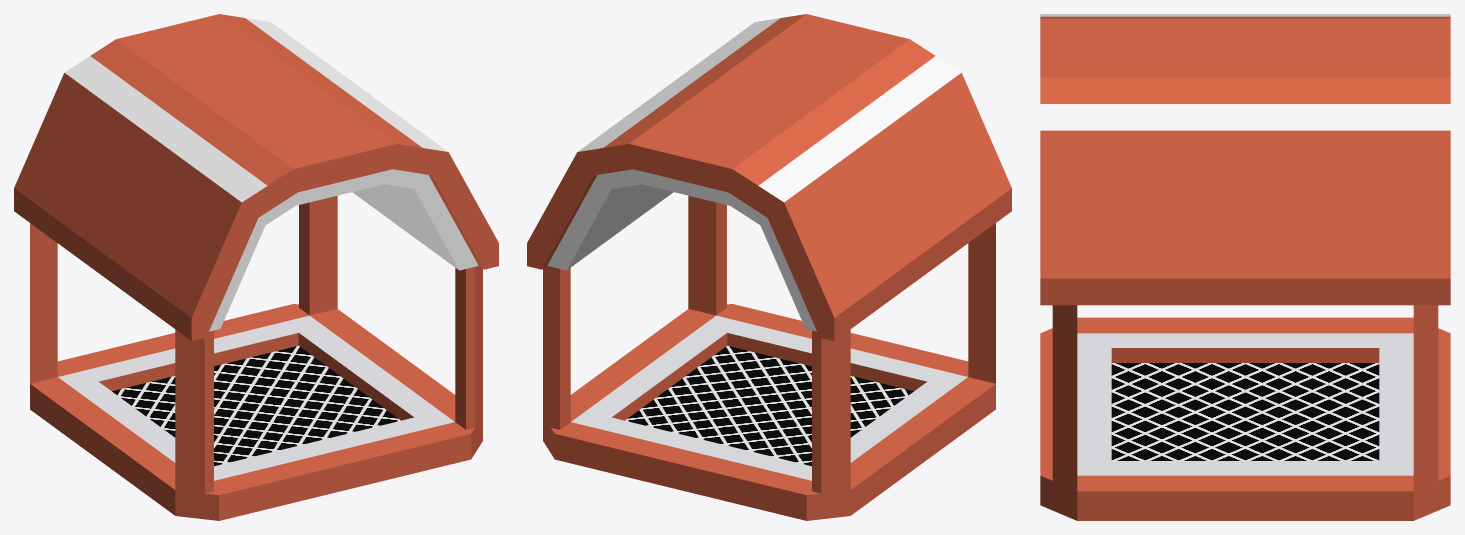
Rendered from buildingOpen.glb.
3 renders of one model, left to right at view 1: azimuth 30°, elevation 25°; view 2: azimuth 150°, elevation 25°; view 3: azimuth 270°, elevation 25°, orthographic. The views are drawn at different scales.
Visible parts, largest first — view 1: buildingOpen; view 2: buildingOpen; view 3: buildingOpen.
Boxes of the visible parts, x1,y1,x2,y2 form: buildingOpen: (14,14,498,520); buildingOpen: (527,14,1011,520); buildingOpen: (1040,14,1450,520).
Bounding box in the file's own units: 10 × 10.37 × 10.
4 materials, 1 textured.
